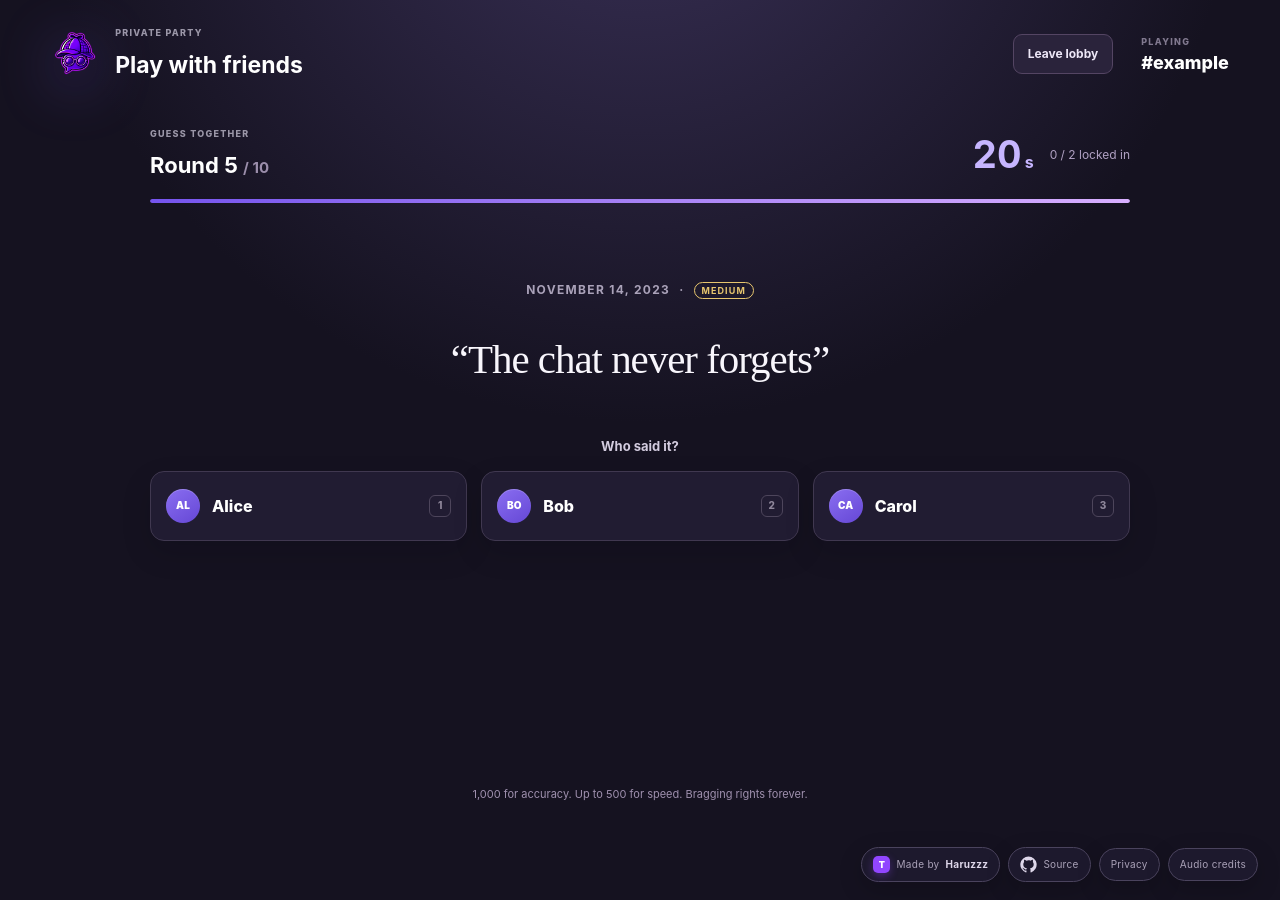
live party snapshots › finishes an intentional exit once when the socket closes before the leave response (401)
Click the button "Leave lobby" at (1063, 54), box x1=1013 y1=34 x2=1113 y2=74
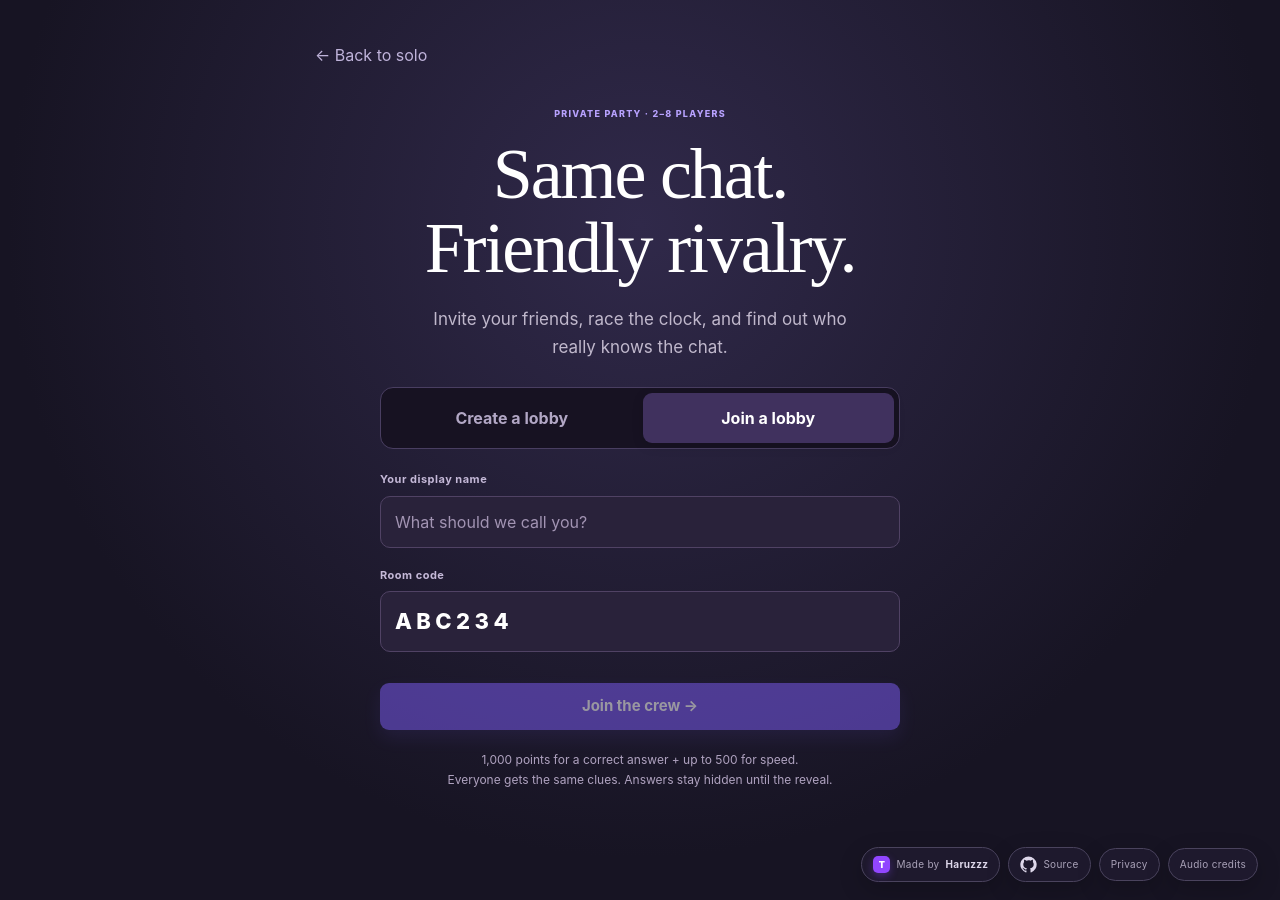
Check: the message is gone
